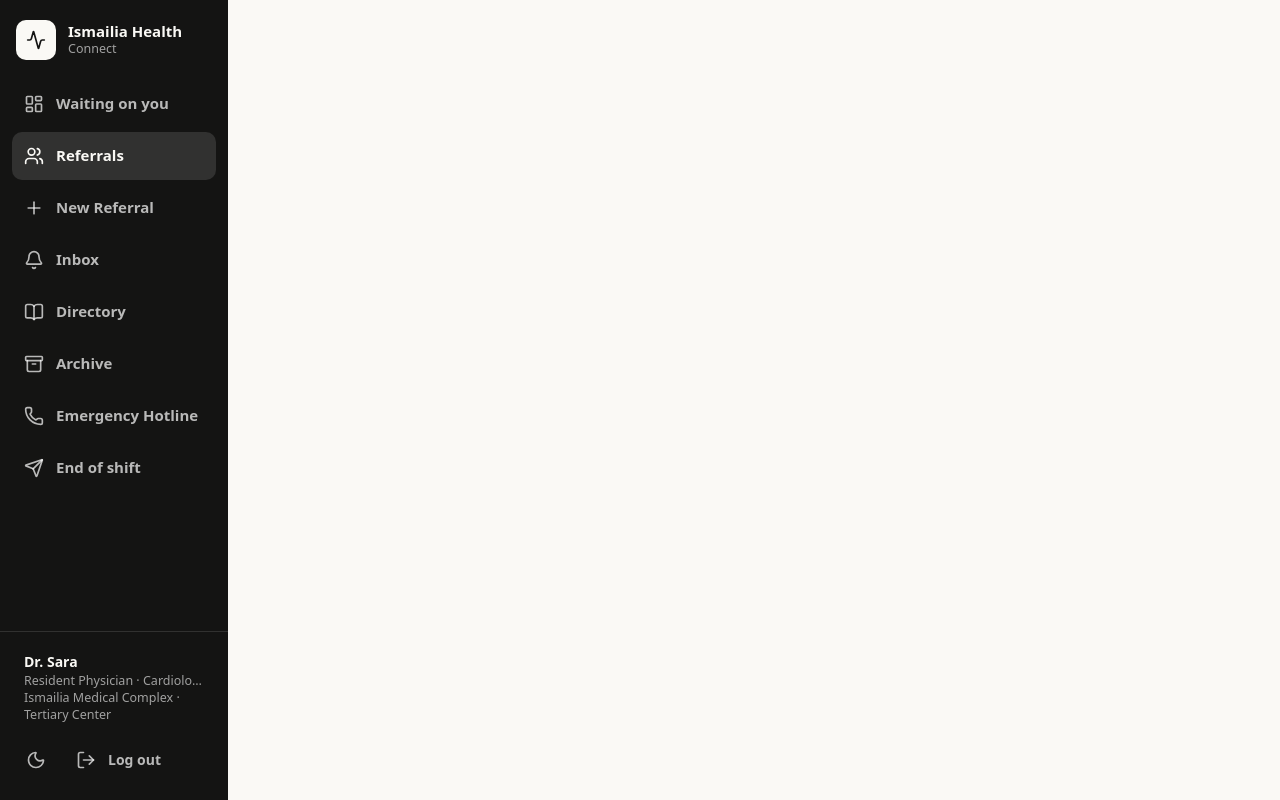
Test case: AppLayout › end-of-shift handover › shows an automated handover summary scoped to the caller's facility and department
Click the button "End of shift" at (114, 468), box top-left (12, 444), bottom-right (216, 492)
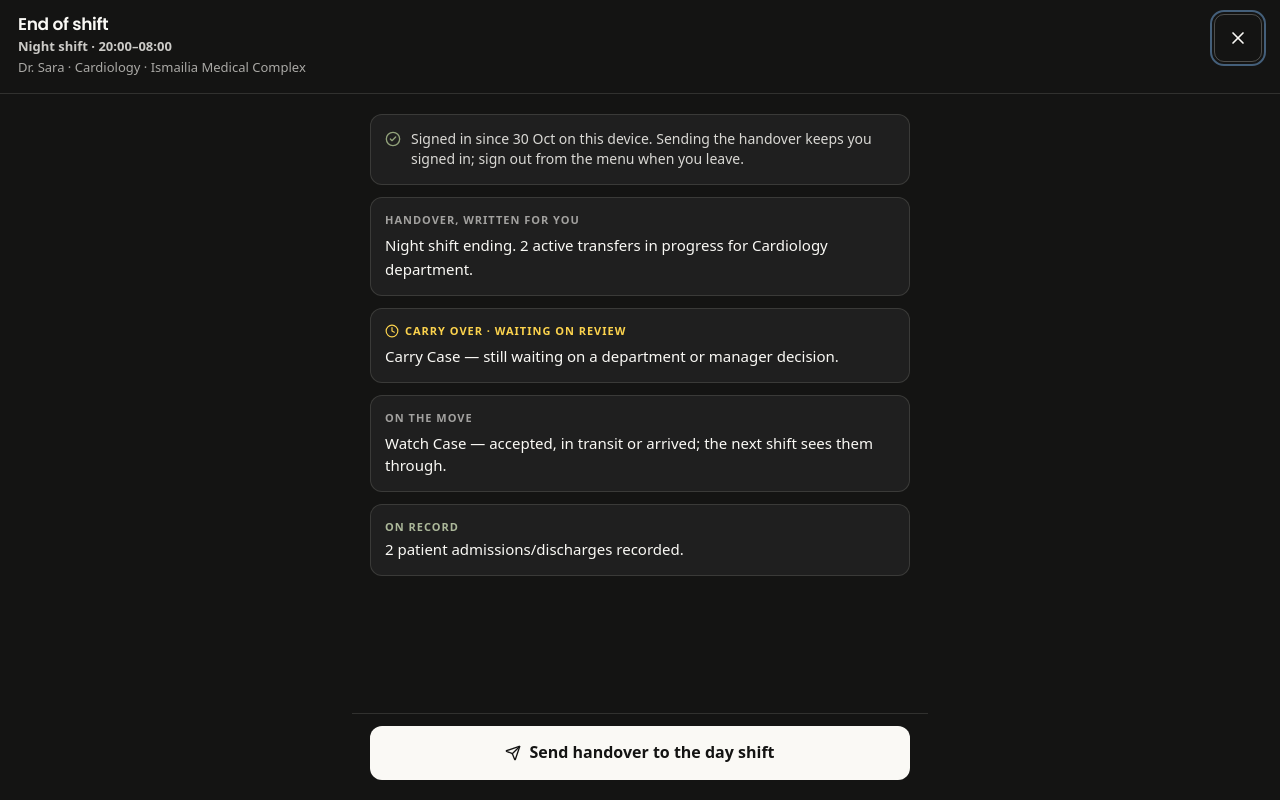
Result: the heading "End of shift" is shown at top-left (18, 12), bottom-right (108, 36)
Result: the text "2 active transfers in progress for Cardiology" is shown at top-left (385, 236), bottom-right (828, 280)
Result: the text "Carry Case" is shown at top-left (385, 346), bottom-right (839, 366)
